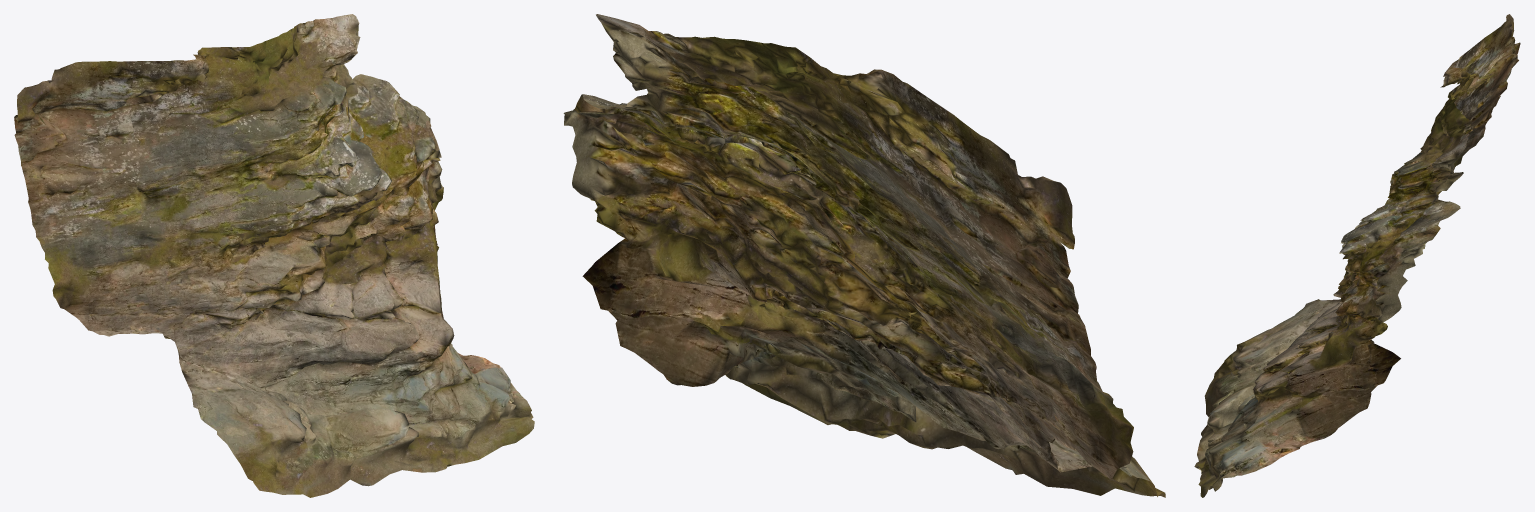
File: rock_face_02.glb
3 renders of one model, left to right at view 1: azimuth 30°, elevation 25°; view 2: azimuth 150°, elevation 25°; view 3: azimuth 270°, elevation 25°, orthographic. The views are drawn at different scales.
Visible parts, largest first — view 1: rock_face_02; view 2: rock_face_02; view 3: rock_face_02.
Part boxes in pixels (x1,y1,x2,y2): rock_face_02: [14, 14, 534, 497]; rock_face_02: [563, 14, 1165, 497]; rock_face_02: [1194, 14, 1520, 497].
Bounding box in the file's own units: 2.71 × 2.47 × 2.13.
1 material, 1 textured.
